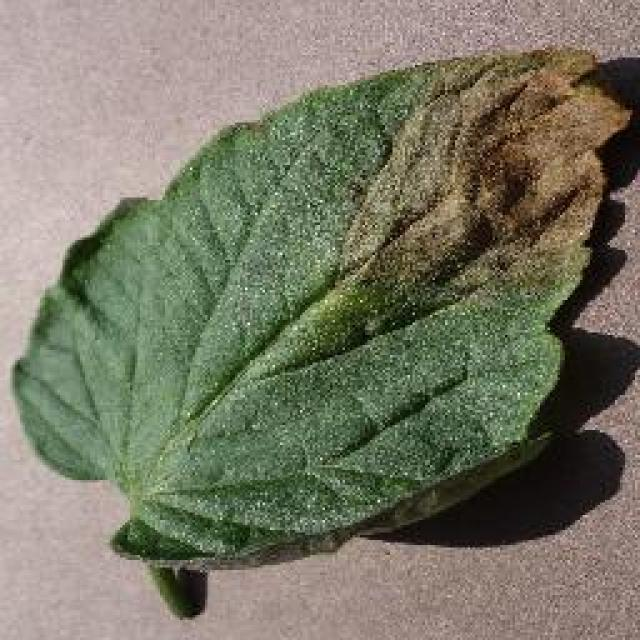Tomato Late Blight: (360, 31, 640, 292)
